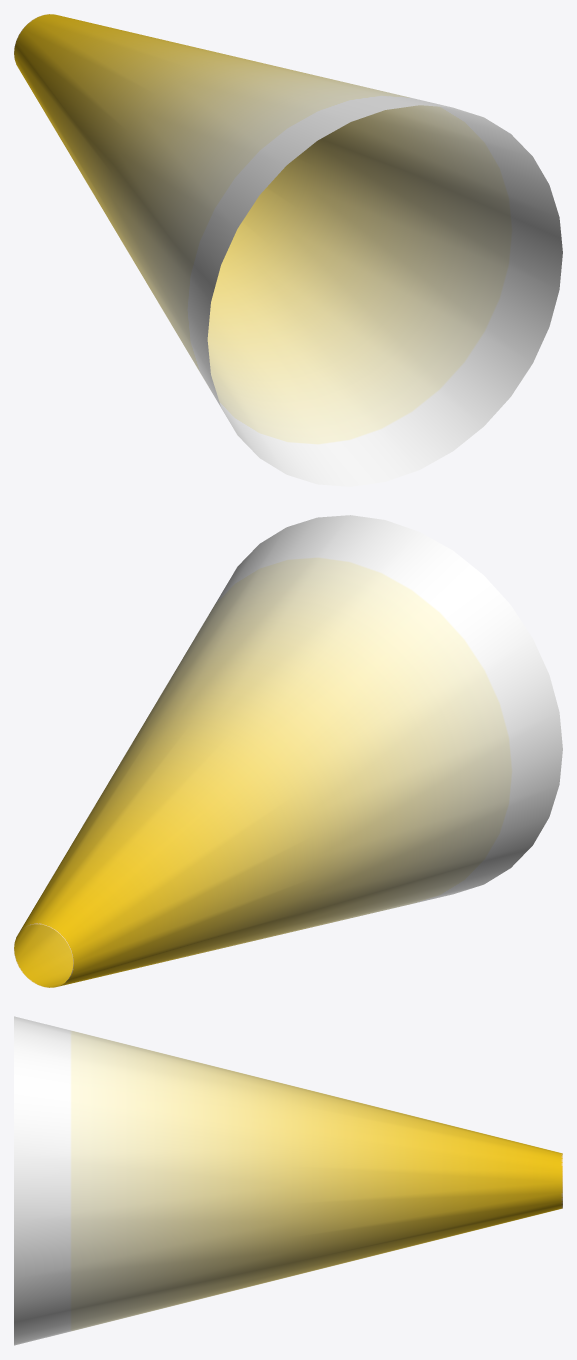
Rendered from Light.fbx.
The picture shows the model from 3 angles, top to bottom: view 1: azimuth 30°, elevation 25°; view 2: azimuth 150°, elevation 25°; view 3: azimuth 270°, elevation 25°; orthographic projection. The views are drawn at different scales.
Visible parts, largest first — view 1: Cylinder; view 2: Cylinder; view 3: Cylinder.
Boxes of the visible parts, x1,y1,x2,y2 form: Cylinder: [14, 14, 562, 486]; Cylinder: [14, 515, 562, 987]; Cylinder: [14, 1016, 562, 1345].
Size of the model in its own units: 3.24 by 3.24 by 5.39.
